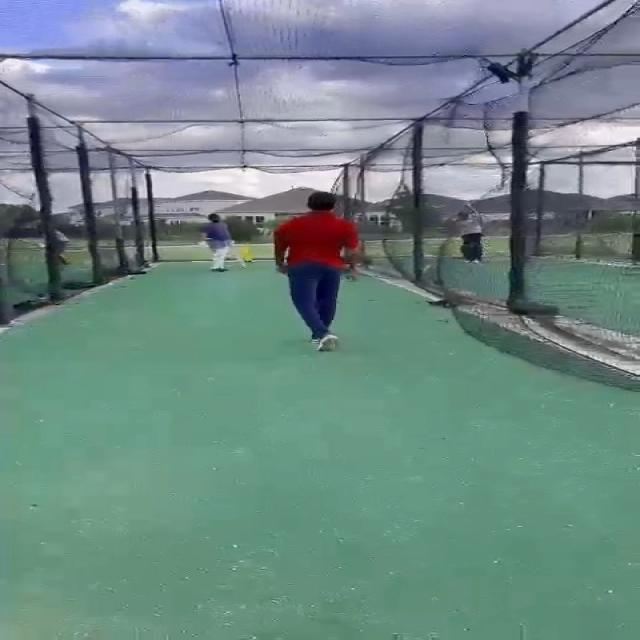batsman: (196, 213, 248, 273)
